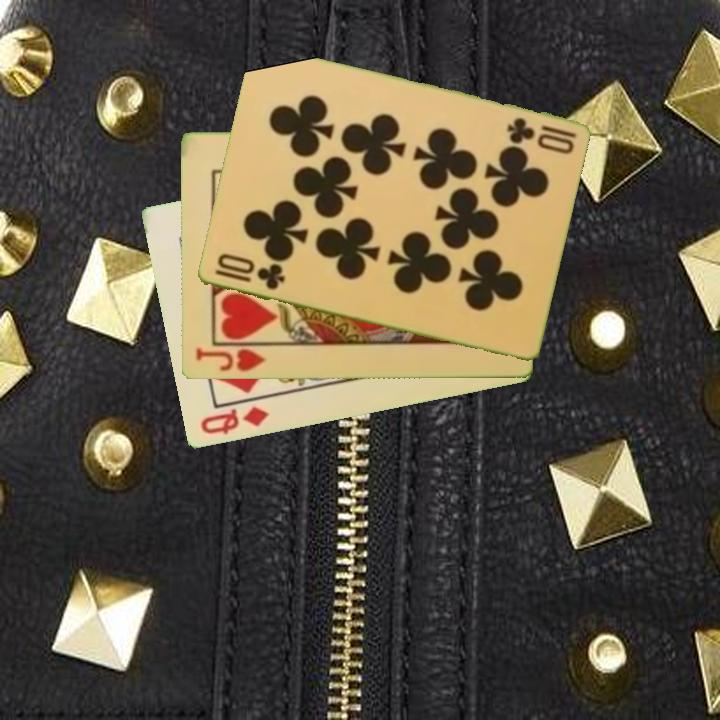10c: (210, 250, 288, 293), (502, 114, 579, 145)
Jh: (192, 341, 275, 374)
Qd: (196, 403, 271, 438)
